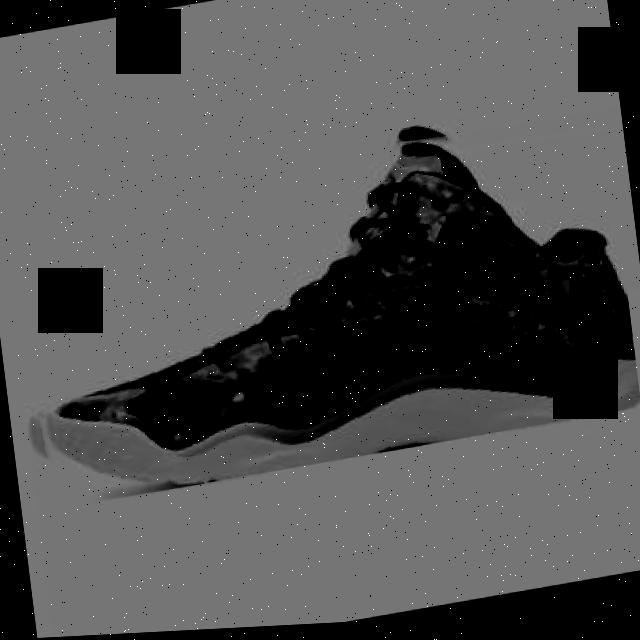shoe: (0, 96, 640, 514)
